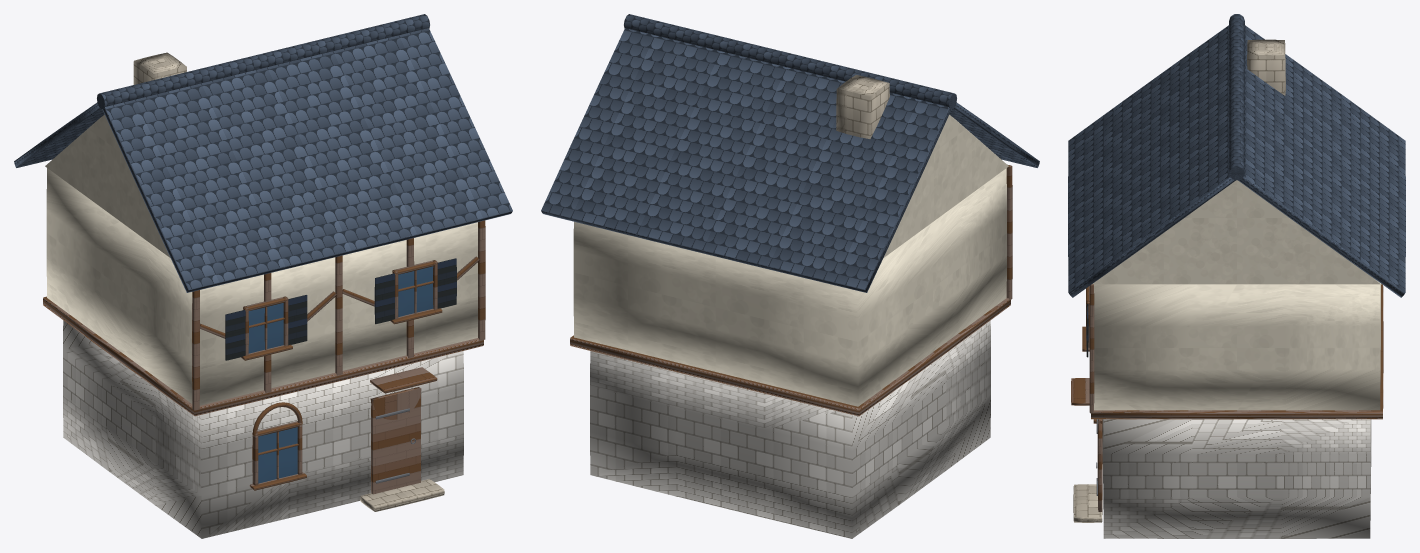
The model's file is building_townhouse_slate_roof.glb.
3 renders of one model, left to right at view 1: azimuth 30°, elevation 25°; view 2: azimuth 150°, elevation 25°; view 3: azimuth 270°, elevation 25°, orthographic. The views are drawn at different scales.
Visible parts, largest first — view 1: building_townhouse, building_townhouse_stone_blocks; view 2: building_townhouse, building_townhouse_stone_blocks; view 3: building_townhouse, building_townhouse_stone_blocks.
Part boxes in pixels (x1=…): building_townhouse: x1=14, y1=14, x2=512, y2=494; building_townhouse_stone_blocks: x1=63, y1=52, x2=463, y2=538; building_townhouse: x1=541, y1=14, x2=1039, y2=416; building_townhouse_stone_blocks: x1=590, y1=75, x2=990, y2=538; building_townhouse: x1=1068, y1=14, x2=1405, y2=511; building_townhouse_stone_blocks: x1=1073, y1=39, x2=1371, y2=538.
Size of the model in its own units: 7.4 by 8.8 by 6.92.
Materials: 7 (5 with a texture image).
